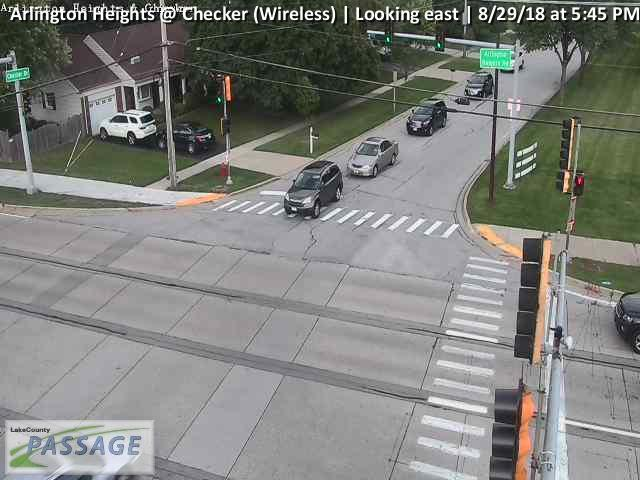SUV: (282, 159, 343, 218), (97, 110, 156, 144)
Sedan: (347, 137, 398, 179), (159, 123, 215, 154), (406, 100, 449, 135), (465, 72, 494, 100), (496, 50, 525, 73)
